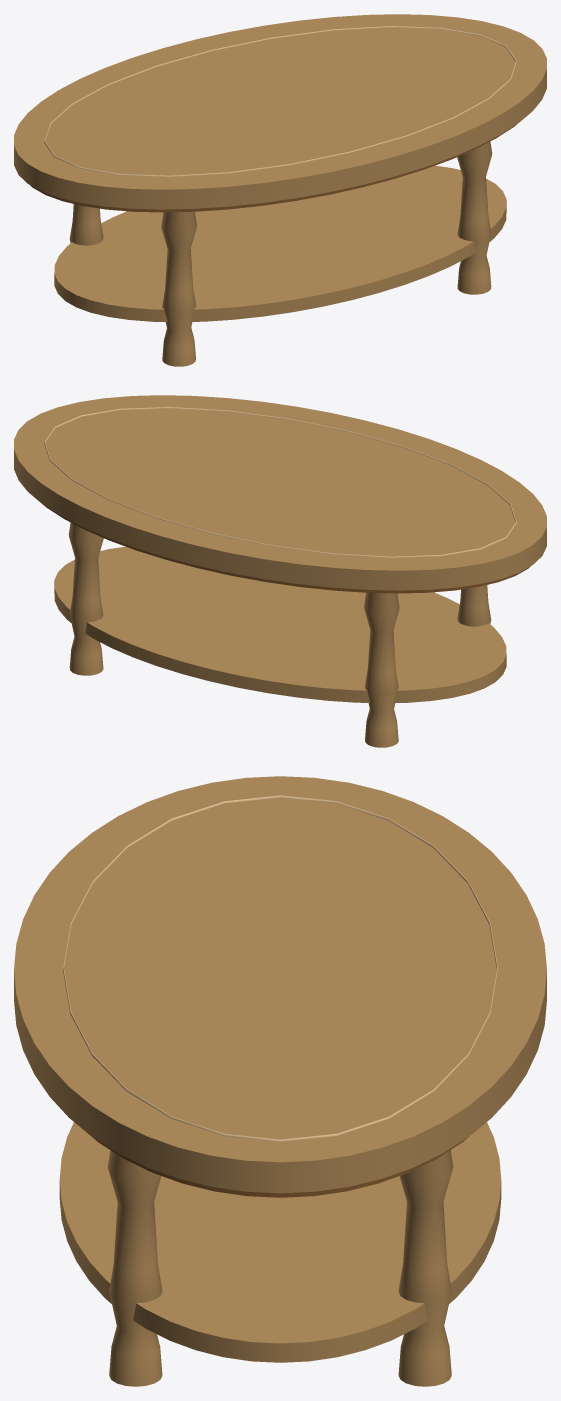
Rendered from table_oval_coffee.glb.
The picture shows the model from 3 angles, top to bottom: view 1: azimuth 30°, elevation 25°; view 2: azimuth 150°, elevation 25°; view 3: azimuth 270°, elevation 25°; orthographic projection. The views are drawn at different scales.
Parts seen in each view (by area): view 1: Oval coffee tabletop, Lower oval shelf, Turned coffee table leg, Turned coffee table leg.002, Oval top border inlay, Dark lower oval rim, Turned coffee table leg.001; view 2: Oval coffee tabletop, Lower oval shelf, Turned coffee table leg.001, Turned coffee table leg.003, Oval top border inlay, Dark lower oval rim, Turned coffee table leg; view 3: Oval coffee tabletop, Lower oval shelf, Turned coffee table leg.002, Turned coffee table leg.003, Oval top border inlay, Dark lower oval rim.
Boxes of the visible parts, x1,y1,x2,y2 form: Oval coffee tabletop: (14,14,546,209); Lower oval shelf: (54,165,506,321); Turned coffee table leg: (161,211,196,366); Turned coffee table leg.002: (457,142,492,294); Oval top border inlay: (44,26,516,176); Dark lower oval rim: (30,123,518,212); Turned coffee table leg.001: (69,204,103,245); Oval coffee tabletop: (14,395,546,590); Lower oval shelf: (54,546,506,702); Turned coffee table leg.001: (364,592,399,747); Turned coffee table leg.003: (68,523,103,675); Oval top border inlay: (44,407,516,557); Dark lower oval rim: (42,504,530,593); Turned coffee table leg: (457,585,491,626); Oval coffee tabletop: (14,776,546,1193); Lower oval shelf: (59,1122,501,1362); Turned coffee table leg.002: (107,1150,162,1386); Turned coffee table leg.003: (398,1150,453,1386); Oval top border inlay: (62,795,498,1141); Dark lower oval rim: (89,1134,471,1197).
Size of the model in its own units: 1.2 by 0.428 by 0.7.
